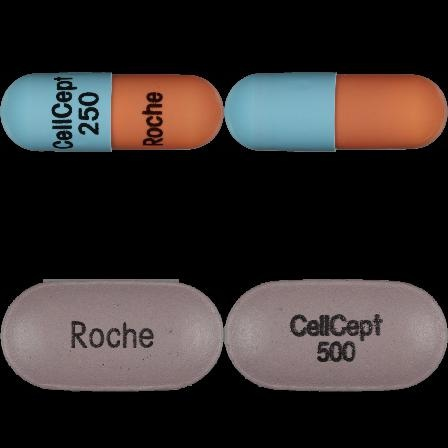49999-936: (0, 0, 224, 224)
